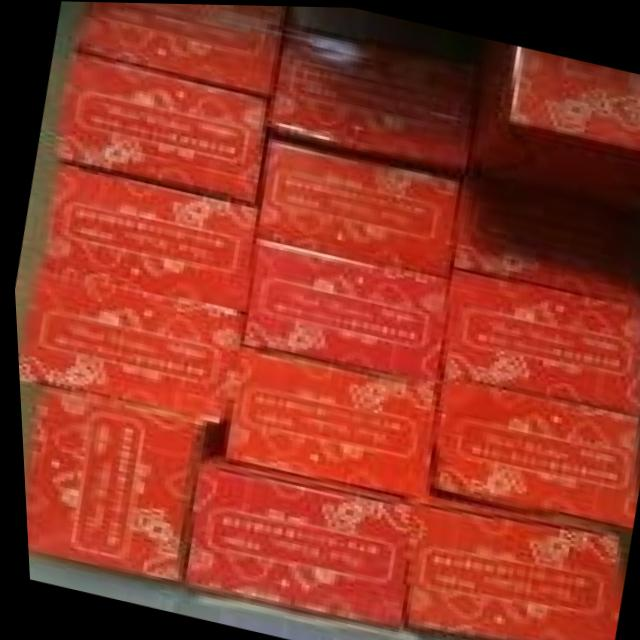box: (178, 453, 404, 631), (20, 386, 205, 585), (14, 273, 244, 422), (33, 162, 254, 314), (399, 486, 616, 640), (51, 52, 269, 204), (220, 346, 430, 497), (425, 375, 635, 525), (432, 266, 640, 413), (253, 133, 459, 276), (240, 238, 444, 380), (271, 29, 474, 170), (467, 46, 640, 202), (451, 173, 639, 302), (71, 1, 288, 95)
